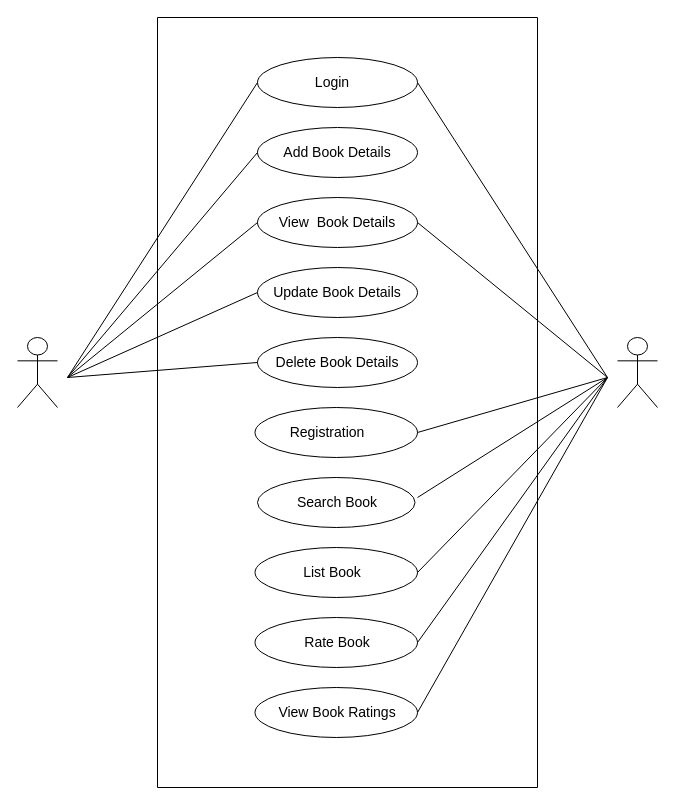
Some shapes in this 675 by 805 pixel diagram are drawn without their labels. Here are the shapes that lost their labels. From the top down, the centre of each, then its label:
(37,372): Admin
(637,372): User
